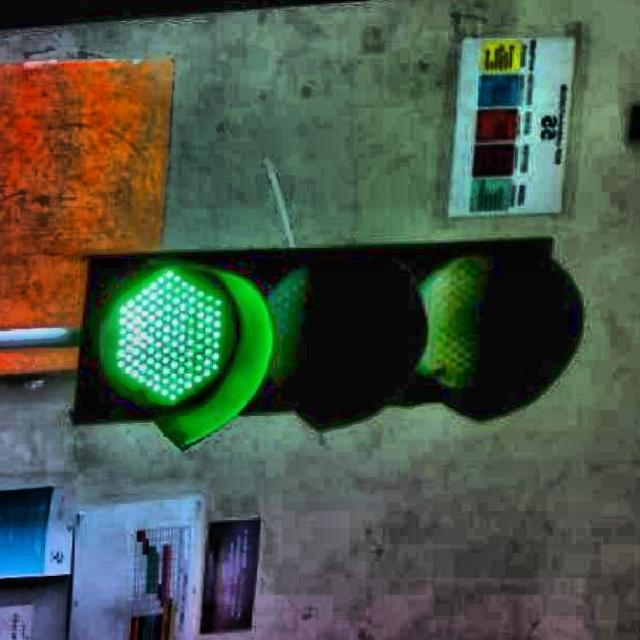green: (62, 236, 554, 439)
